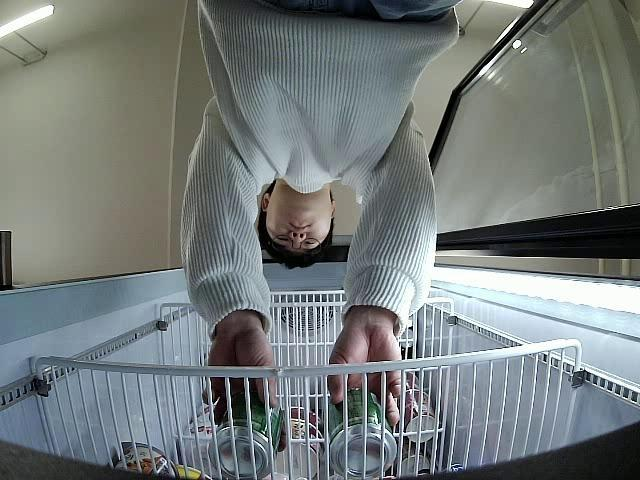12_chilsungCider: (319, 384, 396, 479), (207, 393, 282, 480)
